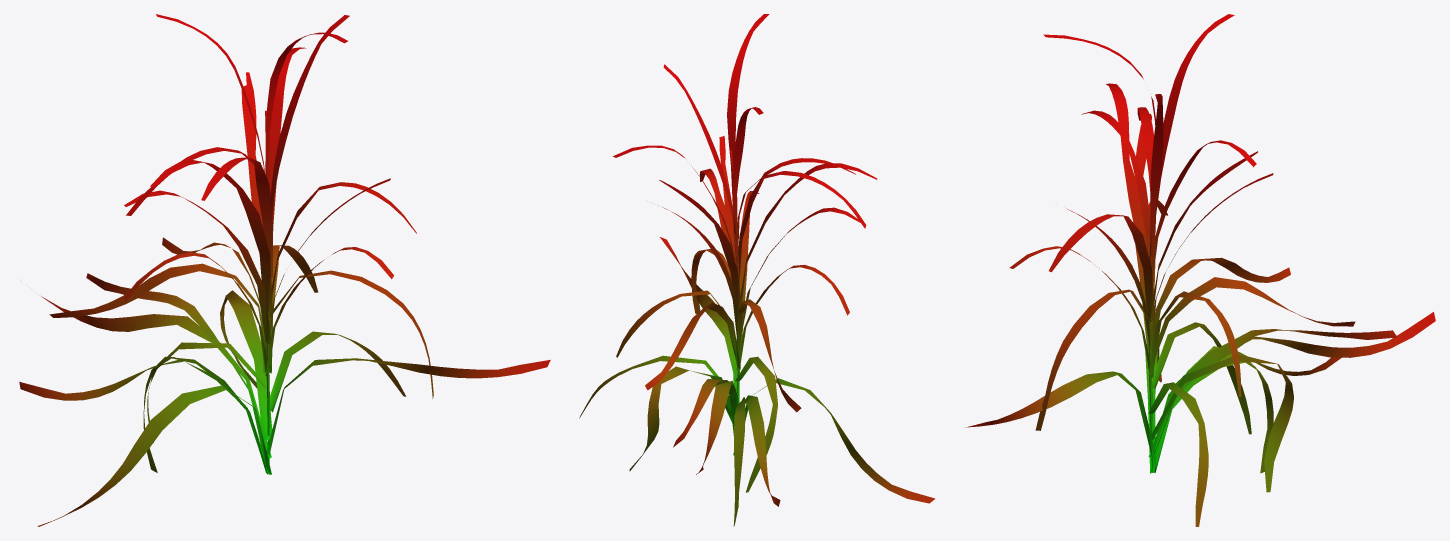
Rendered from tkbidaxia_Var5_LOD0.fbx.
The picture shows the model from 3 angles, left to right: view 1: azimuth 30°, elevation 25°; view 2: azimuth 150°, elevation 25°; view 3: azimuth 270°, elevation 25°; orthographic projection. The views are drawn at different scales.
Visible parts, largest first — view 1: _4b80_Var5_LOD0; view 2: _4b80_Var5_LOD0; view 3: _4b80_Var5_LOD0.
Boxes of the visible parts, x1,y1,x2,y2 form: _4b80_Var5_LOD0: (19, 14, 550, 526); _4b80_Var5_LOD0: (579, 14, 935, 526); _4b80_Var5_LOD0: (966, 14, 1435, 526).
Size of the model in its own units: 44.31 by 50.29 by 45.45.
